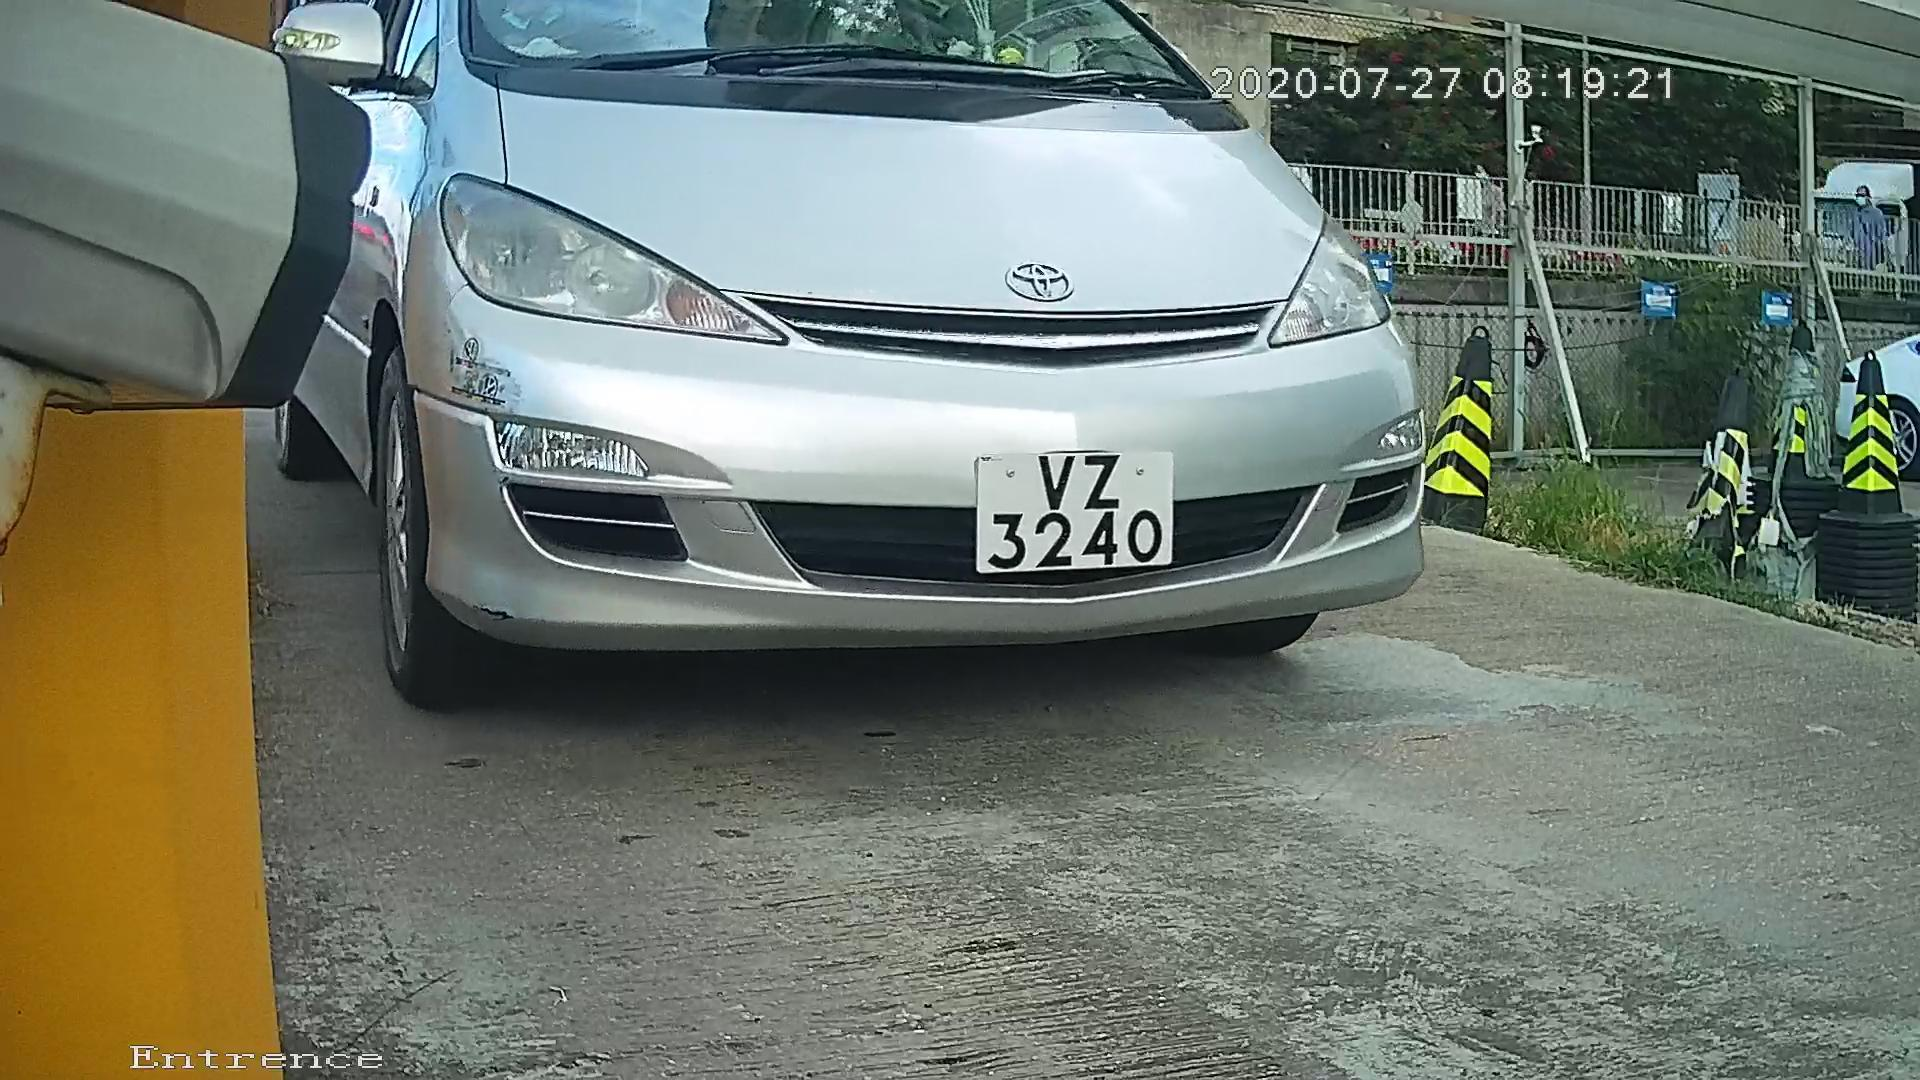Car: (146, 10, 1561, 743)
License Plate: (952, 425, 1192, 579)
